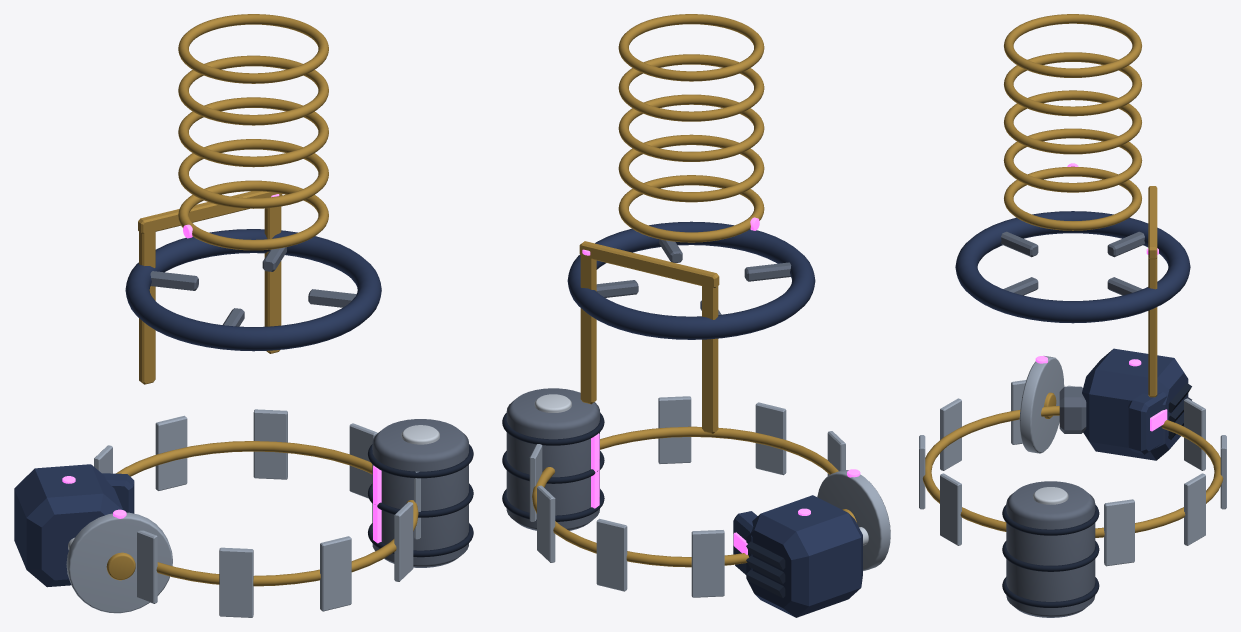
Rendered from tower_arc_rate_s10.glb.
3 views of the same model, side by side, from view 1: azimuth 30°, elevation 25°; view 2: azimuth 150°, elevation 25°; view 3: azimuth 270°, elevation 25° (orthographic). The views are drawn at different scales.
Parts seen in each view (by area): view 1: arc_accel_ring, arc_supercap, arc_generator, arc_flywheel, arc_coolant_loop, arc_winding_b4, arc_winding_b3, arc_winding_b1, arc_winding_b2, arc_winding_b0, arc_base_fin8, arc_base_fin7 (+17 smaller); view 2: arc_accel_ring, arc_generator, arc_supercap, arc_coolant_loop, arc_flywheel, arc_winding_b4, arc_winding_b2, arc_winding_b3, arc_winding_b1, arc_winding_b0, arc_bus_bridge, arc_base_fin1 (+17 smaller); view 3: arc_accel_ring, arc_supercap, arc_generator, arc_coolant_loop, arc_winding_b4, arc_flywheel, arc_winding_b2, arc_winding_b1, arc_winding_b3, arc_winding_b0, arc_base_fin4, arc_meter_box (+17 smaller).
Part boxes in pixels (<box>): arc_accel_ring: <box>125,229,381,351</box>; arc_supercap: <box>372,419,468,567</box>; arc_generator: <box>14,464,122,587</box>; arc_flywheel: <box>66,512,172,613</box>; arc_coolant_loop: <box>116,441,418,586</box>; arc_winding_b4: <box>178,14,328,83</box>; arc_winding_b3: <box>178,55,328,125</box>; arc_winding_b1: <box>178,139,328,208</box>; arc_winding_b2: <box>178,97,328,167</box>; arc_winding_b0: <box>178,180,328,250</box>; arc_base_fin8: <box>219,547,253,617</box>; arc_base_fin7: <box>320,536,351,611</box>; arc_accel_ring: <box>567,221,815,339</box>; arc_generator: <box>746,495,862,617</box>; arc_supercap: <box>506,388,599,530</box>; arc_coolant_loop: <box>532,426,838,567</box>; arc_flywheel: <box>817,469,890,570</box>; arc_winding_b4: <box>618,14,764,81</box>; arc_winding_b2: <box>618,94,764,161</box>; arc_winding_b3: <box>618,54,764,121</box>; arc_winding_b1: <box>618,134,764,202</box>; arc_winding_b0: <box>618,175,764,242</box>; arc_bus_bridge: <box>579,241,719,287</box>; arc_base_fin1: <box>691,530,724,597</box>; arc_accel_ring: <box>955,211,1190,323</box>; arc_supercap: <box>1006,481,1095,617</box>; arc_generator: <box>1082,348,1188,460</box>; arc_coolant_loop: <box>922,406,1223,537</box>; arc_winding_b4: <box>1004,14,1141,77</box>; arc_flywheel: <box>1019,356,1064,453</box>; arc_winding_b2: <box>1004,90,1141,154</box>; arc_winding_b1: <box>1003,128,1142,192</box>; arc_winding_b3: <box>1004,52,1141,116</box>; arc_winding_b0: <box>1004,166,1141,230</box>; arc_base_fin4: <box>1104,499,1134,566</box>; arc_meter_box: <box>1128,392,1168,454</box>.
Bounding box in the file's own units: 1.92 × 2.46 × 1.39.
